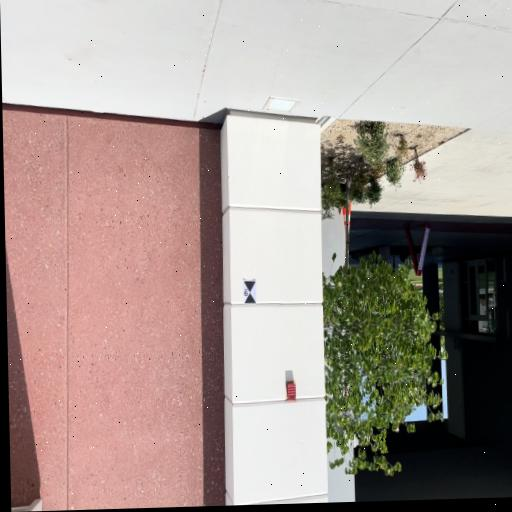target9: (243, 280, 257, 304)
